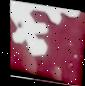dent: (0, 0, 85, 86)
